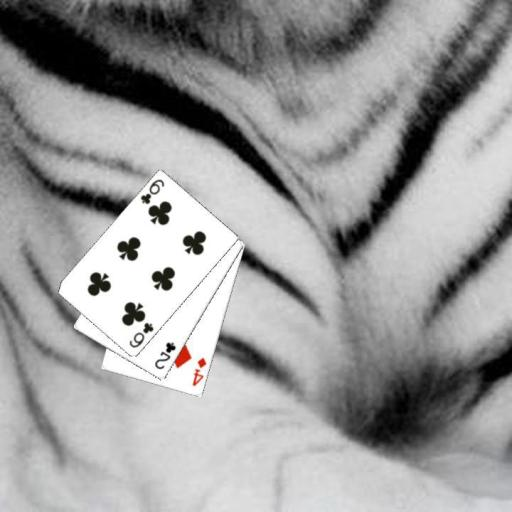2C: (151, 339, 178, 371)
4D: (190, 355, 209, 387)
6C: (126, 319, 155, 350), (137, 177, 166, 207)
